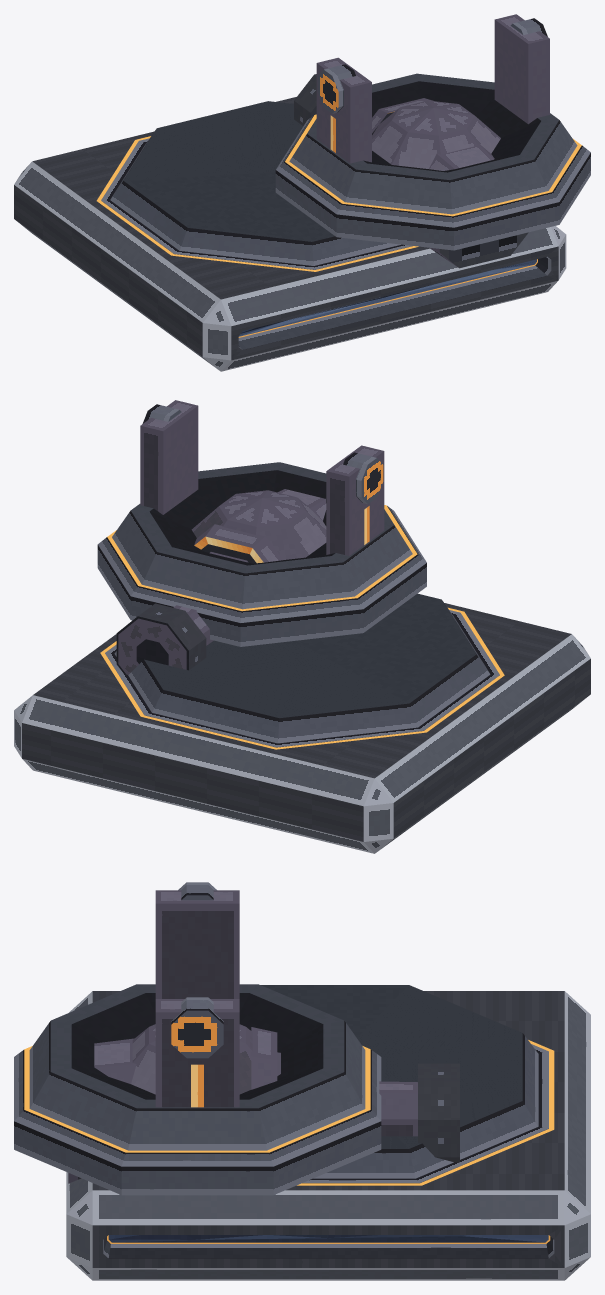
The model's file is marlit_cannon.glb.
3 renders of one model, top to bottom at view 1: azimuth 30°, elevation 25°; view 2: azimuth 150°, elevation 25°; view 3: azimuth 270°, elevation 25°, orthographic. The views are drawn at different scales.
Visible parts, largest first — view 1: marlit_cannon_base, marlit_cannon_yaw, marlit_cannon_head; view 2: marlit_cannon_base, marlit_cannon_yaw, marlit_cannon_head; view 3: marlit_cannon_base, marlit_cannon_yaw, marlit_cannon_head.
Part boxes in pixels (x1,y1,x2,y2): marlit_cannon_base: (14,97,566,371); marlit_cannon_yaw: (275,14,590,250); marlit_cannon_head: (294,74,528,268); marlit_cannon_base: (14,593,590,853); marlit_cannon_yaw: (97,400,426,646); marlit_cannon_head: (116,489,326,674); marlit_cannon_base: (66,985,590,1280); marlit_cannon_yaw: (14,882,381,1195); marlit_cannon_head: (68,1024,459,1183).
Size of the model in its own units: 2.2 by 1.22 by 2.2.
1 material, 1 textured.
